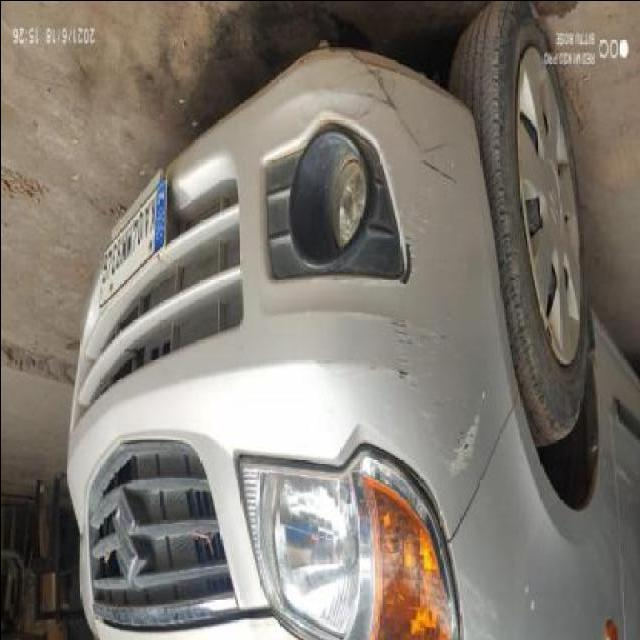front-bumper-dent: (290, 36, 494, 492)
